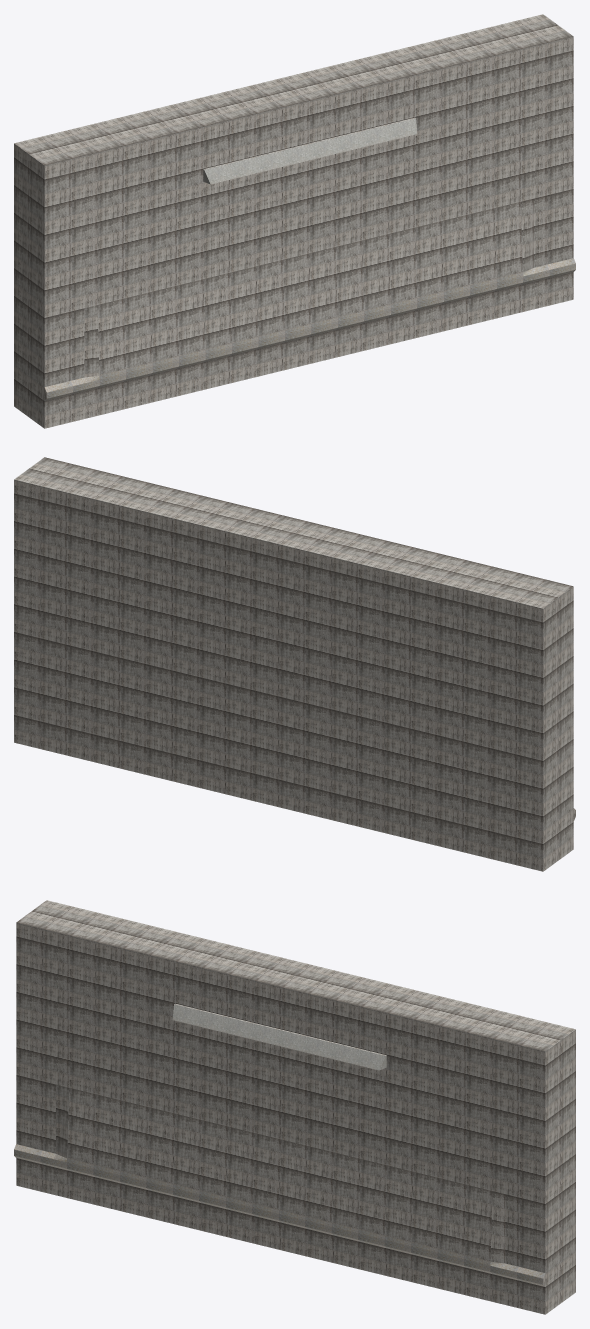
3 views of the same model, one above another, from view 1: azimuth 30°, elevation 25°; view 2: azimuth 150°, elevation 25°; view 3: azimuth 330°, elevation 25° (orthographic).
Visible parts, largest first — view 1: TexturesCom_ConcreteLeaking0255_1_M, TexturesCom_BrickMessy0175_2_M, TexturesCom_MetalScratches0021_M; view 2: TexturesCom_ConcreteLeaking0255_1_M; view 3: TexturesCom_ConcreteLeaking0255_1_M, TexturesCom_BrickMessy0175_2_M, TexturesCom_MetalScratches0021_M.
Part boxes in pixels (left/top/right/bottom): TexturesCom_ConcreteLeaking0255_1_M: left=14, top=14, right=573, bottom=428; TexturesCom_BrickMessy0175_2_M: left=44, top=258, right=575, bottom=400; TexturesCom_MetalScratches0021_M: left=203, top=118, right=417, bottom=184; TexturesCom_ConcreteLeaking0255_1_M: left=14, top=457, right=575, bottom=871; TexturesCom_ConcreteLeaking0255_1_M: left=16, top=900, right=575, bottom=1314; TexturesCom_BrickMessy0175_2_M: left=14, top=1144, right=545, bottom=1286; TexturesCom_MetalScratches0021_M: left=172, top=1004, right=386, bottom=1070.
Size of the model in its own units: 20 by 9.5 by 2.31.
3 materials, 3 textured.
